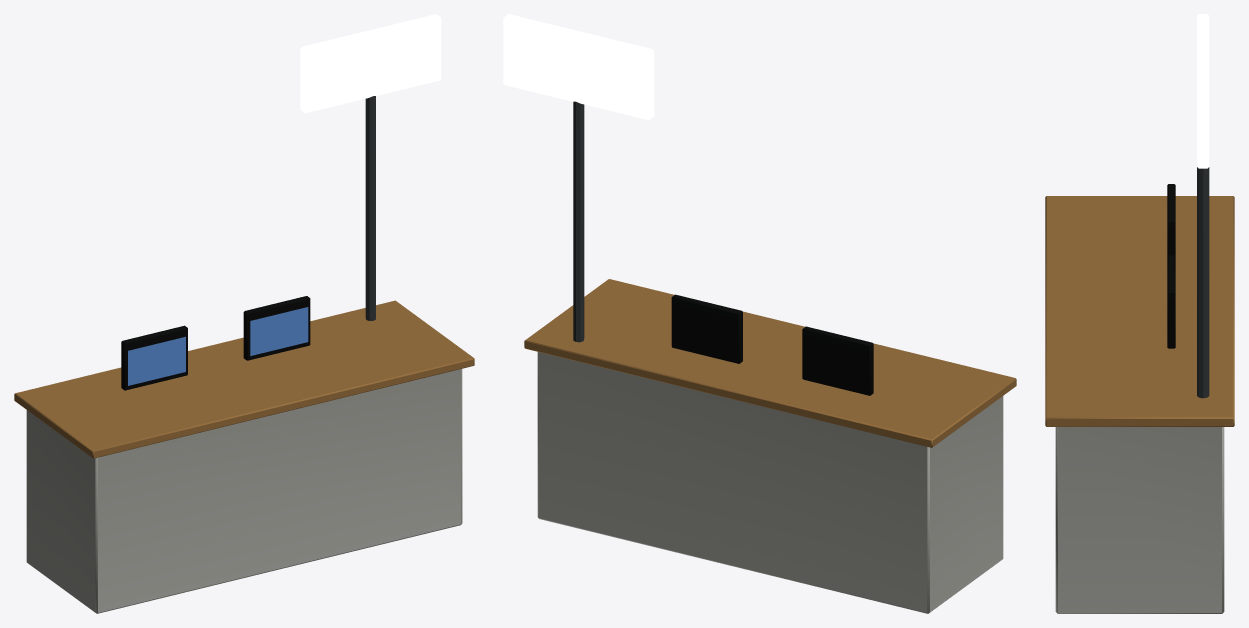
Rendered from ap-gate-desk.glb.
The picture shows the model from 3 angles, left to right: view 1: azimuth 30°, elevation 25°; view 2: azimuth 150°, elevation 25°; view 3: azimuth 270°, elevation 25°; orthographic projection. The views are drawn at different scales.
Parts seen in each view (by area): view 1: body__paint, top__wood, sign__led, screens__screen, mast__steel; view 2: body__paint, top__wood, sign__led, mast__steel; view 3: top__wood, body__paint, mast__steel, sign__led.
Part boxes in pixels (x1,y1,x2,y2): body__paint: (26,296,462,613); top__wood: (14,300,474,458); sign__led: (300,14,441,113); screens__screen: (128,307,308,385); mast__steel: (365,96,375,320); body__paint: (537,294,1003,613); top__wood: (524,279,1016,447); sign__led: (503,14,654,120); mast__steel: (573,101,584,342); top__wood: (1045,196,1234,426); body__paint: (1055,184,1224,613); mast__steel: (1197,167,1209,398); sign__led: (1197,14,1209,168).
Bounding box in the file's own units: 2.7 × 2.85 × 0.9.
